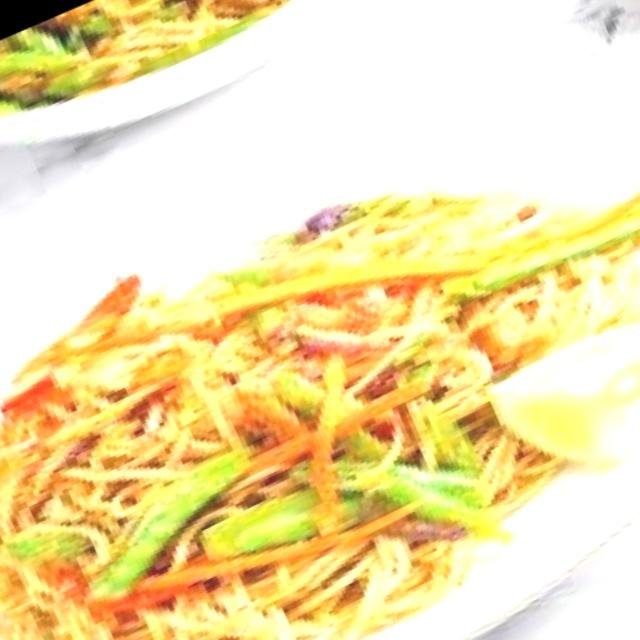pancit bihon: (0, 202, 638, 639)
